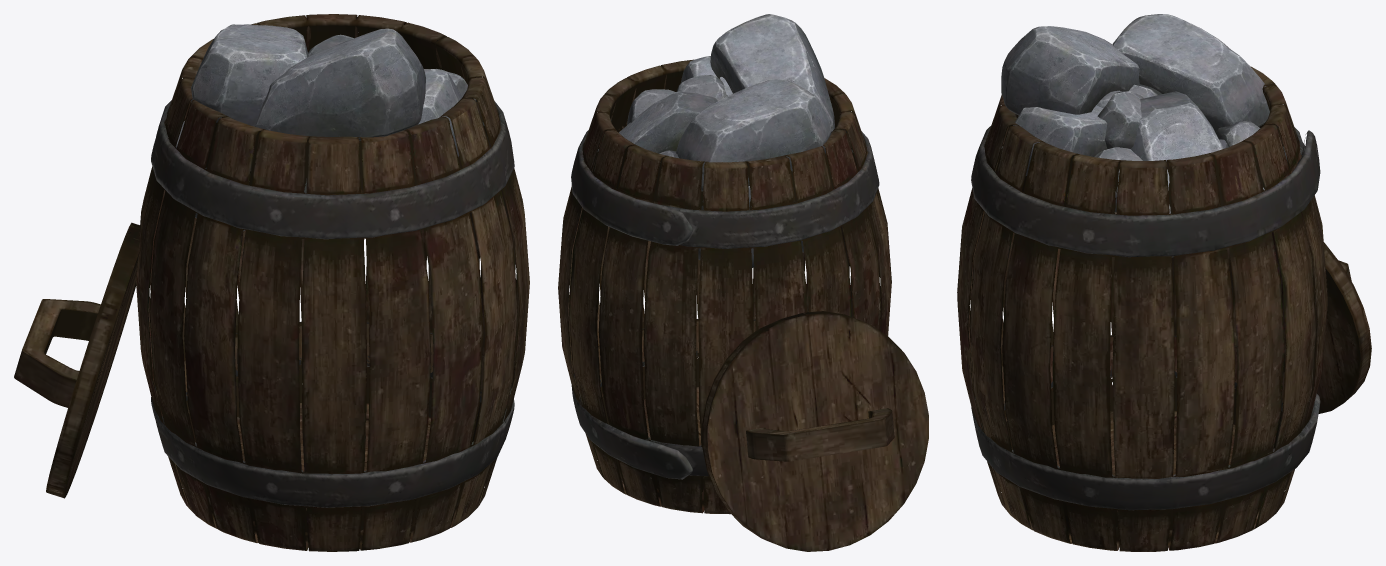
3 views of the same model, side by side, from view 1: azimuth 30°, elevation 25°; view 2: azimuth 150°, elevation 25°; view 3: azimuth 270°, elevation 25° (orthographic). The views are drawn at different scales.
Parts seen in each view (by area): view 1: SM_Dec_Barrel_of_Stone_LOD0; view 2: SM_Dec_Barrel_of_Stone_LOD0; view 3: SM_Dec_Barrel_of_Stone_LOD0.
Part boxes in pixels (x1,y1,x2,y2): SM_Dec_Barrel_of_Stone_LOD0: [14, 14, 529, 551]; SM_Dec_Barrel_of_Stone_LOD0: [558, 14, 928, 551]; SM_Dec_Barrel_of_Stone_LOD0: [957, 14, 1371, 551].
Bounding box in the file's own units: 1.02 × 1.11 × 0.9052.
Materials: 2 (2 with a texture image).
